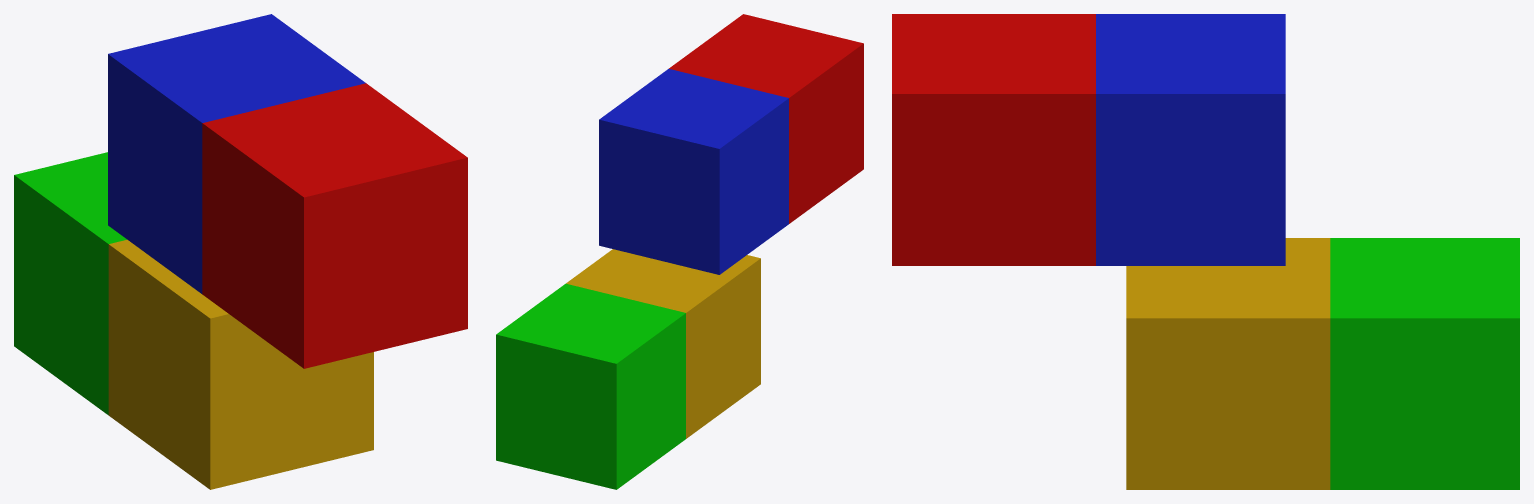
Rendered from multi_mesh_material.obj.
3 renders of one model, left to right at view 1: azimuth 30°, elevation 25°; view 2: azimuth 150°, elevation 25°; view 3: azimuth 270°, elevation 25°, orthographic. The views are drawn at different scales.
Parts seen in each view (by area): view 1: Cube, Cube.001; view 2: Cube, Cube.001; view 3: Cube, Cube.001.
Part boxes in pixels (<box>): Cube: <box>108,14,467,368</box>; Cube.001: <box>14,152,373,489</box>; Cube: <box>599,14,863,274</box>; Cube.001: <box>496,249,760,489</box>; Cube: <box>892,14,1285,265</box>; Cube.001: <box>1126,238,1519,489</box>.
Bounding box in the file's own units: 2.28 × 4.48 × 6.62.
